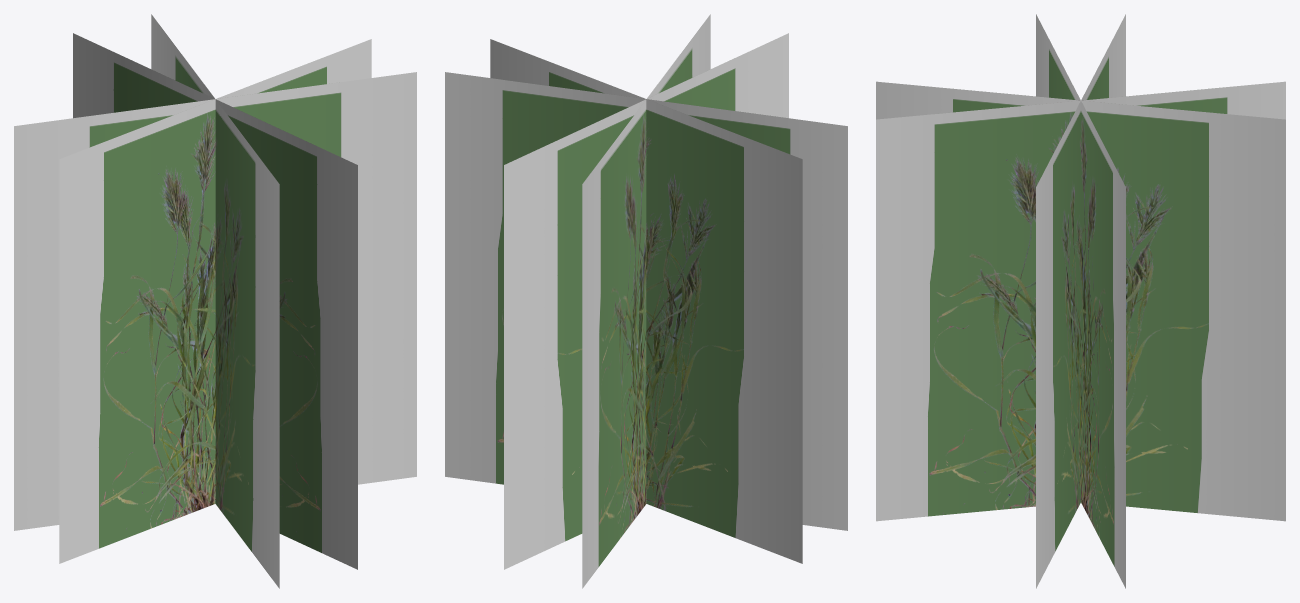
File: TerrainGrass01 Variant.fbx
3 views of the same model, side by side, from view 1: azimuth 30°, elevation 25°; view 2: azimuth 150°, elevation 25°; view 3: azimuth 270°, elevation 25° (orthographic).
Visible parts, largest first — view 1: TerrainGrass01_Variant; view 2: TerrainGrass01_Variant; view 3: TerrainGrass01_Variant.
Boxes of the visible parts, x1,y1,x2,y2 form: TerrainGrass01_Variant: (14,14,416,588); TerrainGrass01_Variant: (445,14,847,588); TerrainGrass01_Variant: (876,14,1285,588).
Bounding box in the file's own units: 99.98 × 108 × 99.98.
